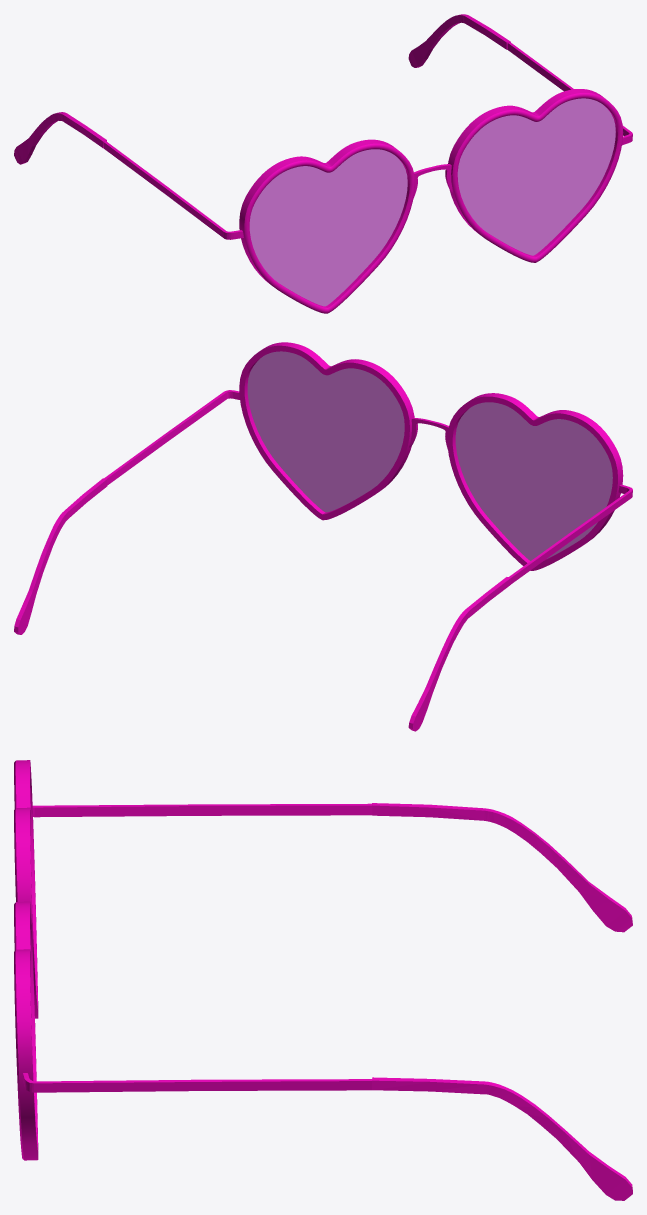
3 renders of one model, top to bottom at view 1: azimuth 30°, elevation 25°; view 2: azimuth 150°, elevation 25°; view 3: azimuth 270°, elevation 25°, orthographic. The views are drawn at different scales.
Visible parts, largest first — view 1: glasses_geom, oprava_geom.001; view 2: glasses_geom, oprava_geom.001; view 3: oprava_geom.001.
Part boxes in pixels (x1,y1,x2,y2): glasses_geom: [249, 98, 615, 306]; oprava_geom.001: [14, 14, 632, 313]; glasses_geom: [247, 351, 612, 560]; oprava_geom.001: [14, 342, 632, 731]; oprava_geom.001: [14, 760, 632, 1200].
Bounding box in the file's own units: 0.1528 × 0.0582 × 0.1439.
